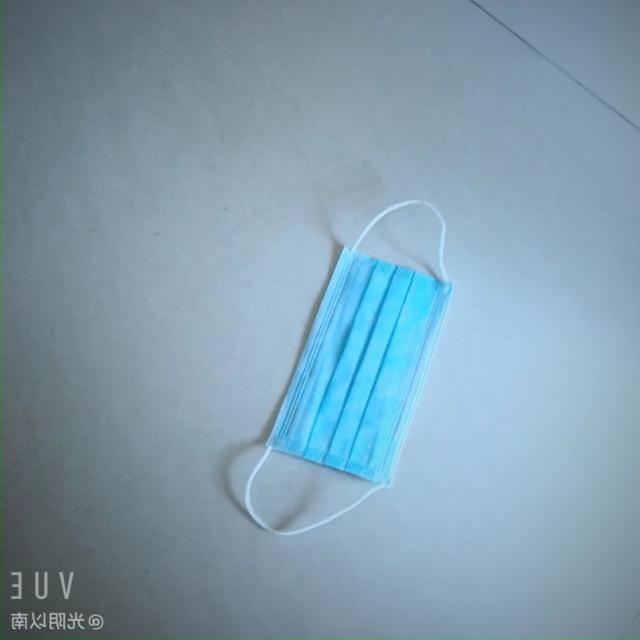face mask: (252, 248, 459, 492)
